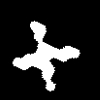single_crochet: (13, 21, 79, 90)
